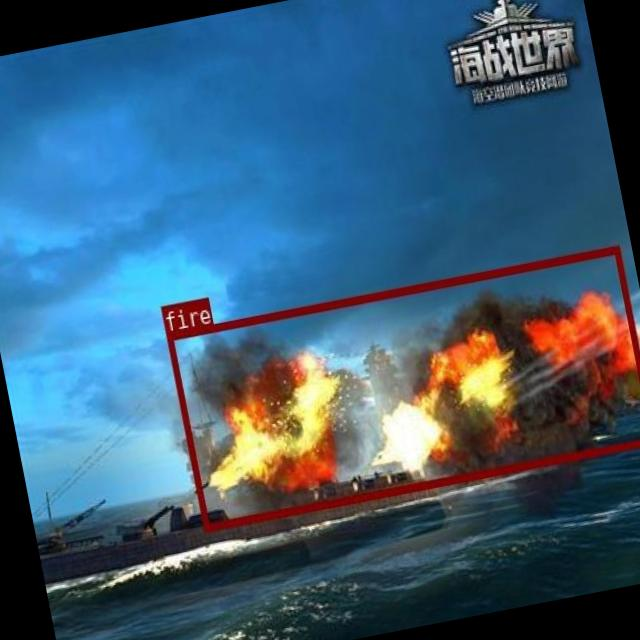fire: (164, 245, 640, 530)
